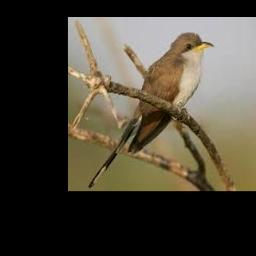Cuckoo: (89, 32, 214, 188)
